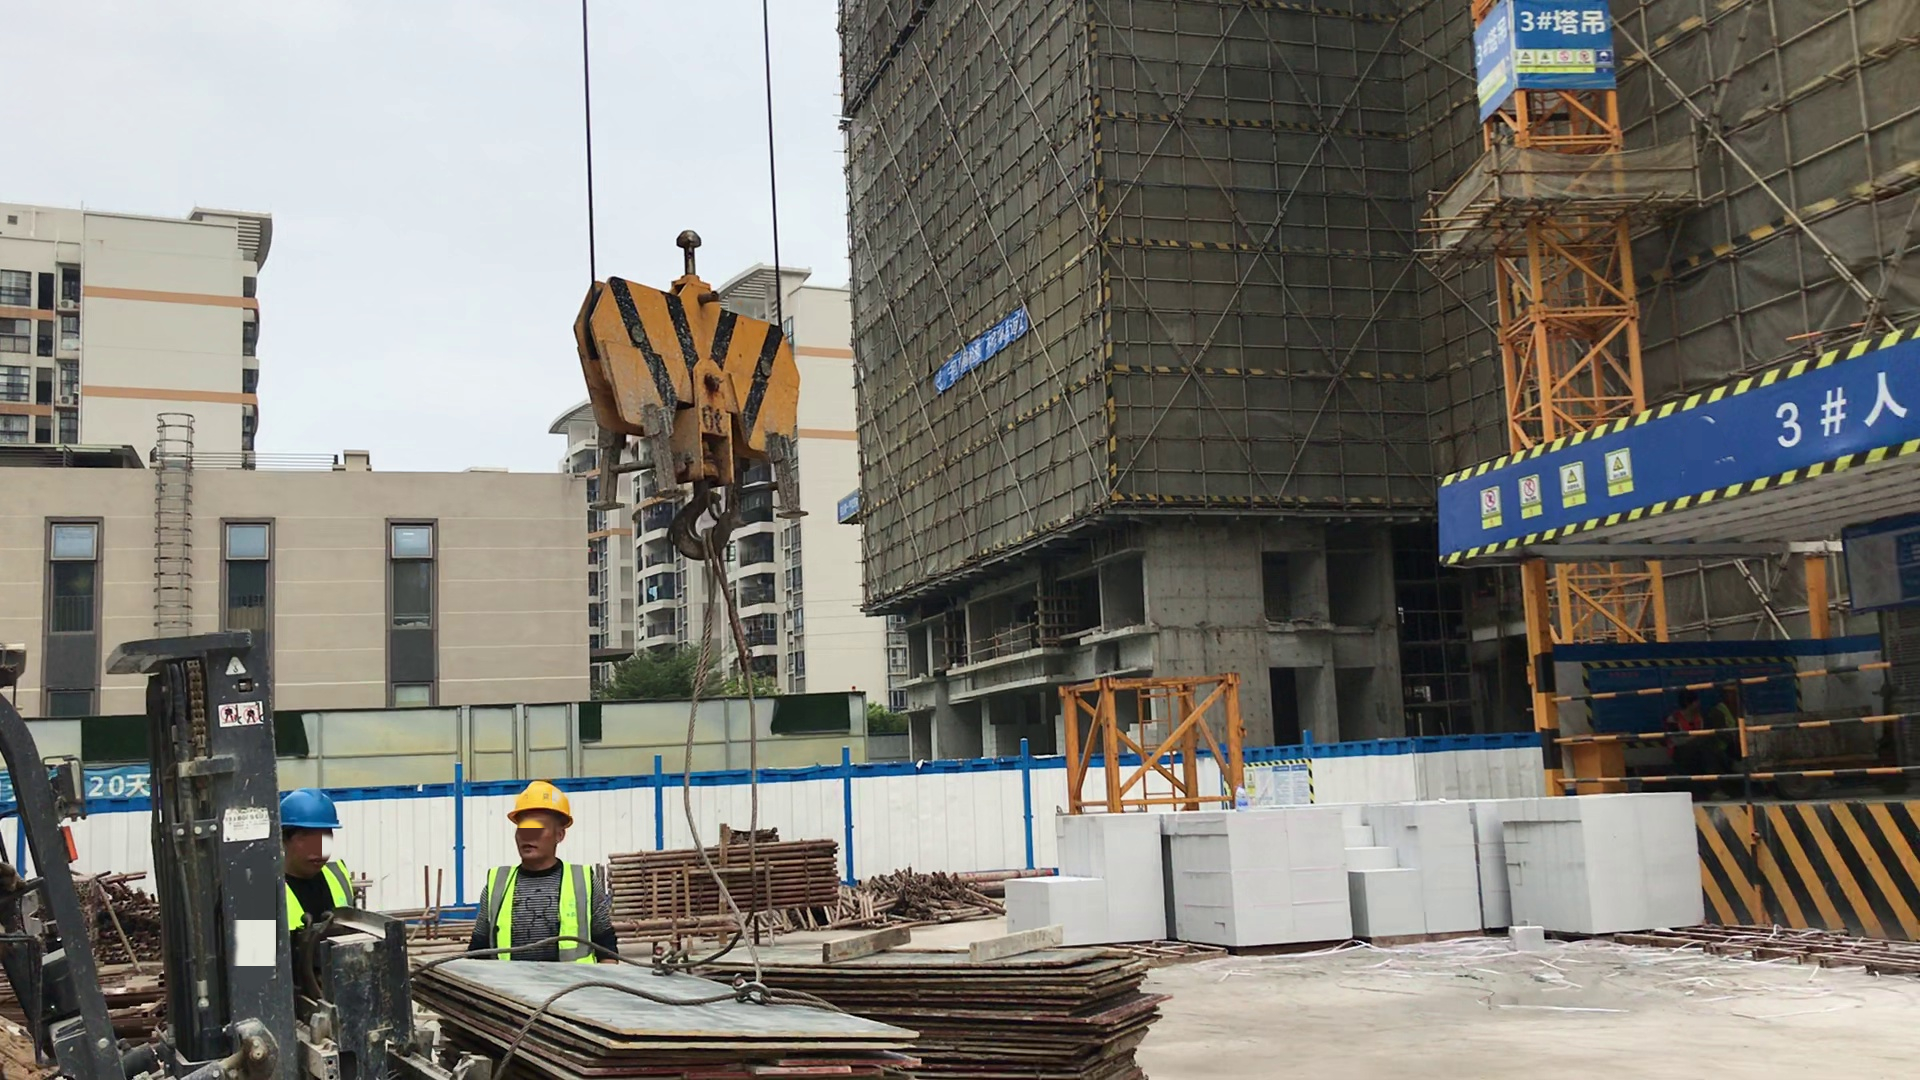board: (412, 950, 910, 1080), (863, 931, 1176, 1080)
brick: (1502, 789, 1707, 942), (1157, 796, 1361, 946), (1004, 801, 1175, 941), (1348, 796, 1504, 941)
helmet: (502, 780, 577, 825), (280, 793, 347, 829)
hook: (578, 223, 835, 539)
person: (462, 779, 625, 963), (277, 791, 381, 945)
scaffold: (613, 818, 850, 924)
vest: (480, 858, 606, 968), (284, 872, 352, 939)
